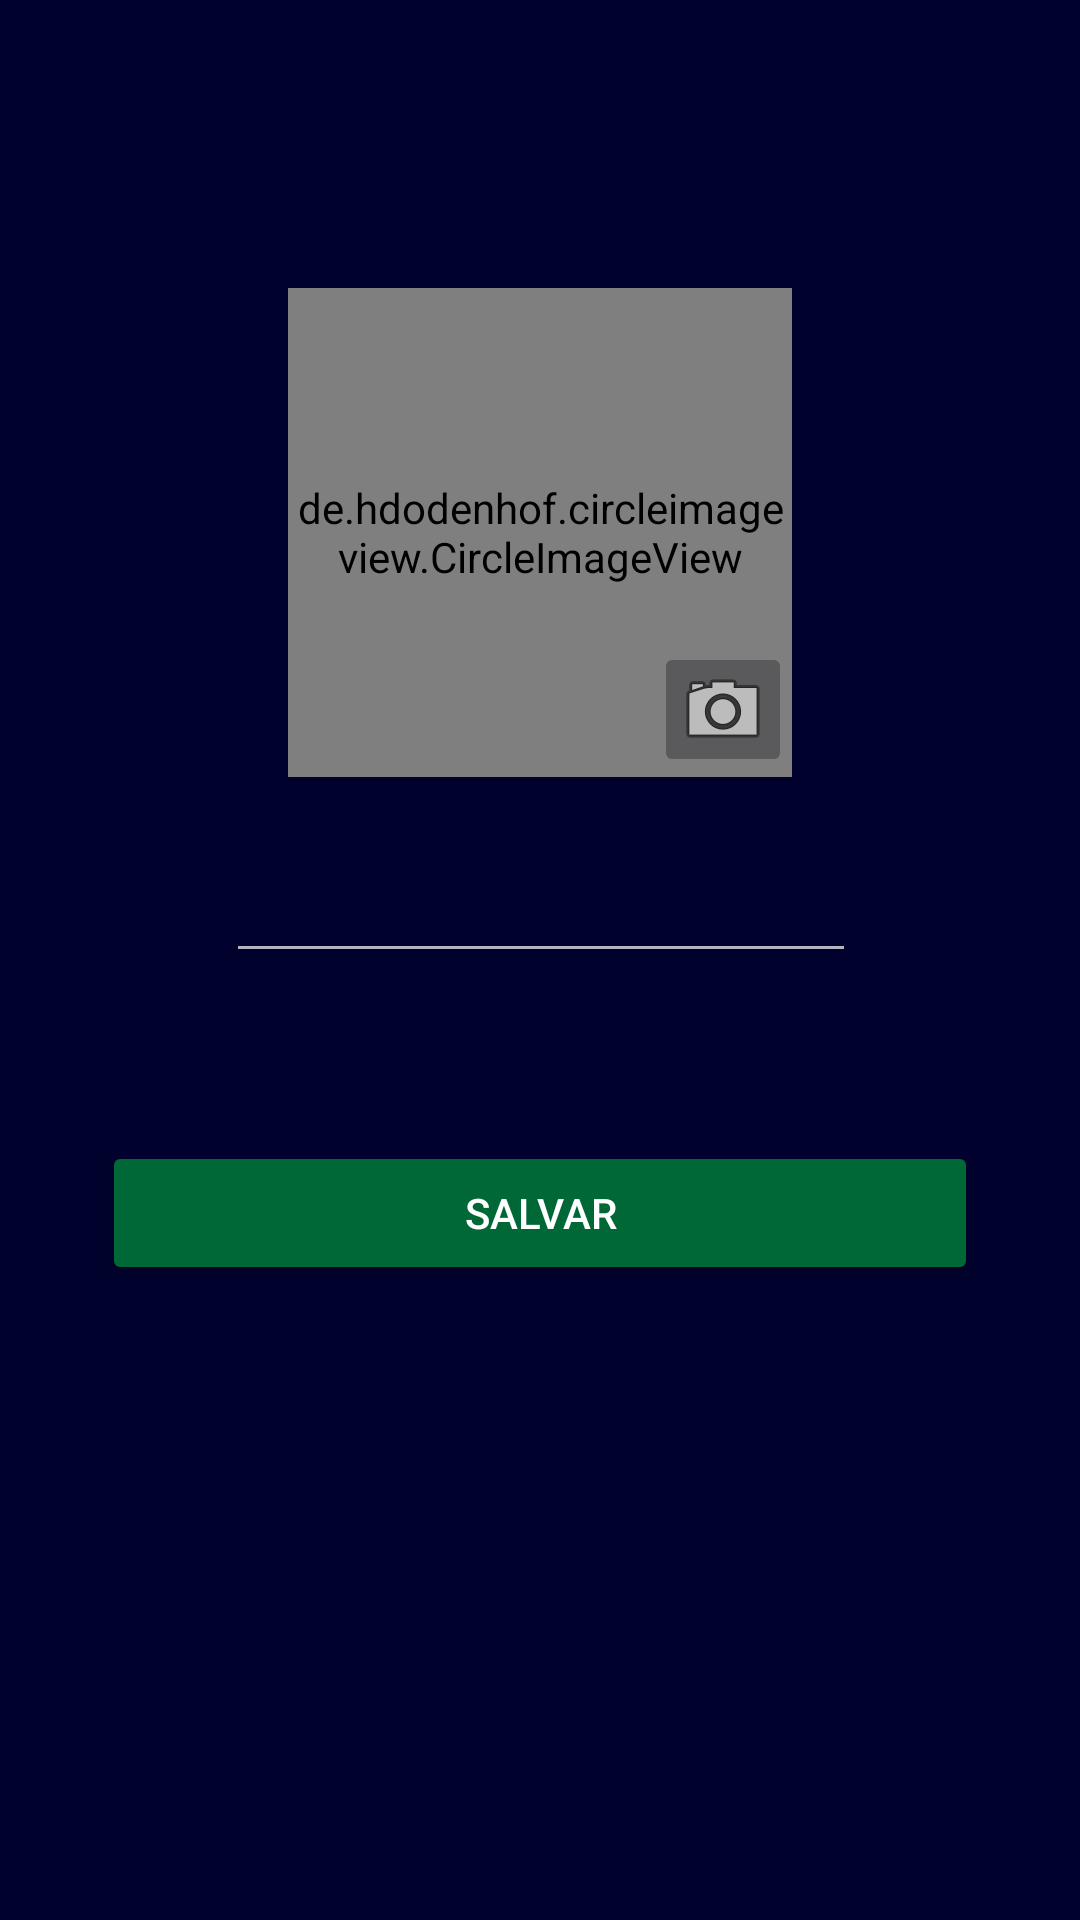

Screen size 1080px×1920px. Icon name, then its center in pixels as point (x, y):
camera: point (723, 709)
